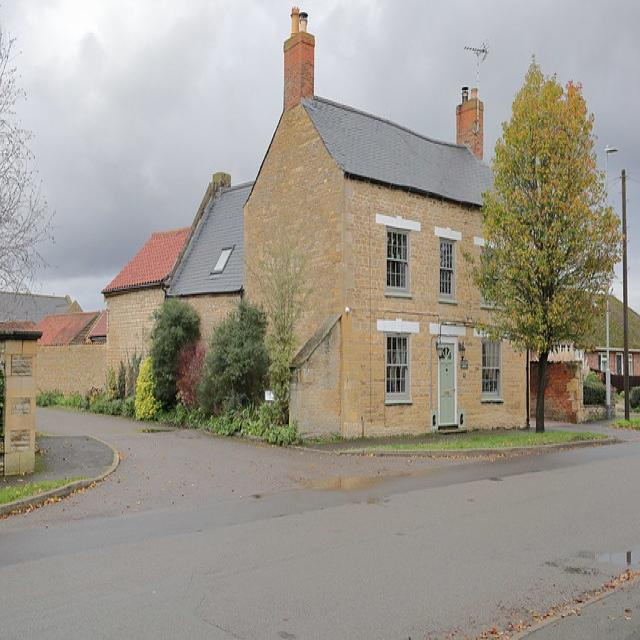building: (240, 12, 530, 442)
